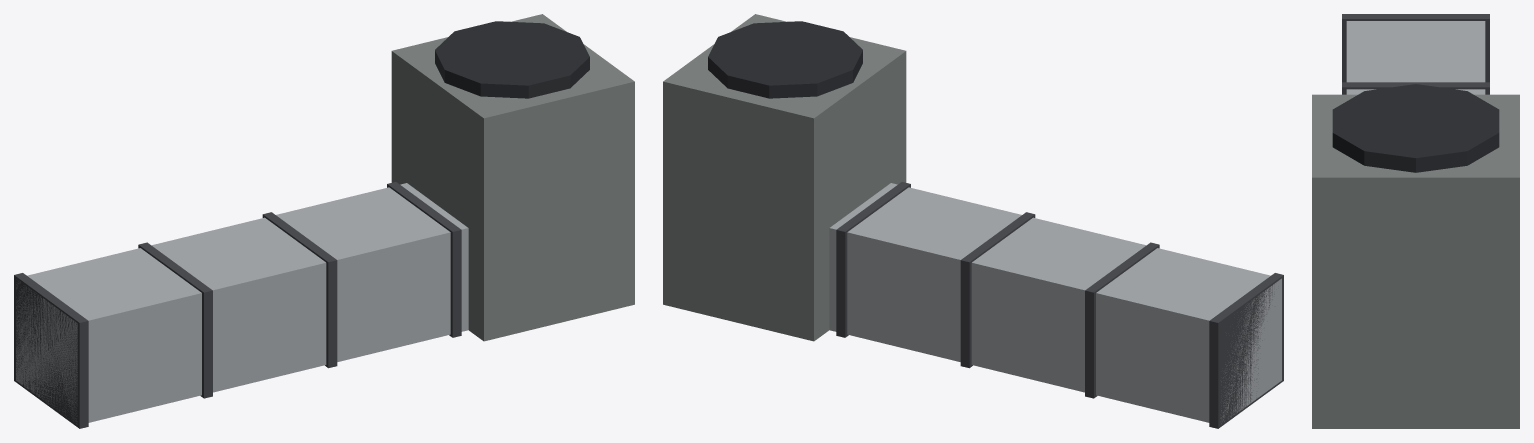
File: SM_Prop_Warehouse_Venting_01.glb
3 renders of one model, left to right at view 1: azimuth 30°, elevation 25°; view 2: azimuth 150°, elevation 25°; view 3: azimuth 270°, elevation 25°, orthographic. The views are drawn at different scales.
Parts seen in each view (by area): view 1: SM_Prop_Warehouse_Venting_01; view 2: SM_Prop_Warehouse_Venting_01; view 3: SM_Prop_Warehouse_Venting_01.
Boxes of the visible parts, <box> form: SM_Prop_Warehouse_Venting_01: <box>14,14,634,428</box>; SM_Prop_Warehouse_Venting_01: <box>663,14,1283,428</box>; SM_Prop_Warehouse_Venting_01: <box>1312,14,1519,428</box>.
Bounding box in the file's own units: 3.05 × 1.28 × 0.9.
Materials: 1 (1 with a texture image).
